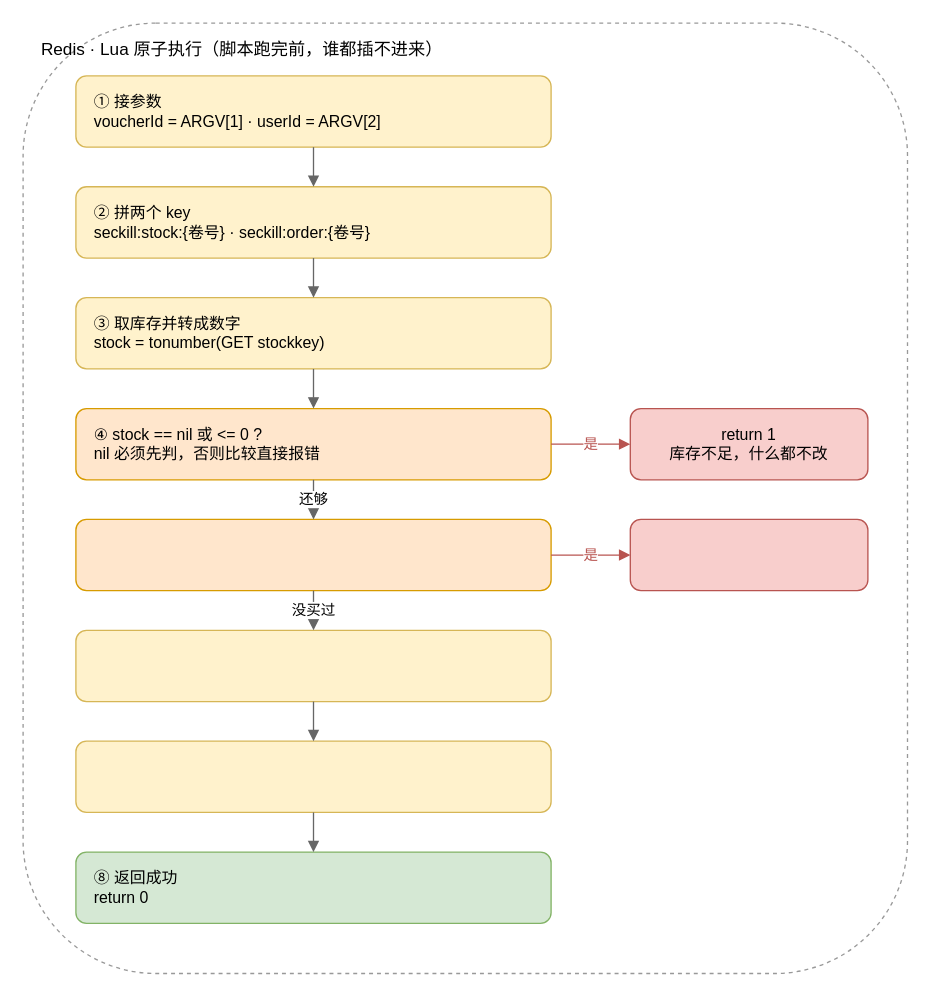
The diagram is 931 pixels wide and 997 high, and some of its shapes have lost their labels. Here are the shapes that lost their labels. From the top down, the centre of each, then its label:
At (x=313, y=554): "⑤ SISMEMBER orderkey userId == 1 ? 一人一单就靠这一句".
At (x=748, y=554): "return 2 名单里有你，重复下单".
At (x=313, y=665): "⑥ 扣库存 INCRBY stockkey -1".
At (x=313, y=776): "⑦ 把自己签进买家名单 SADD orderkey userId".
